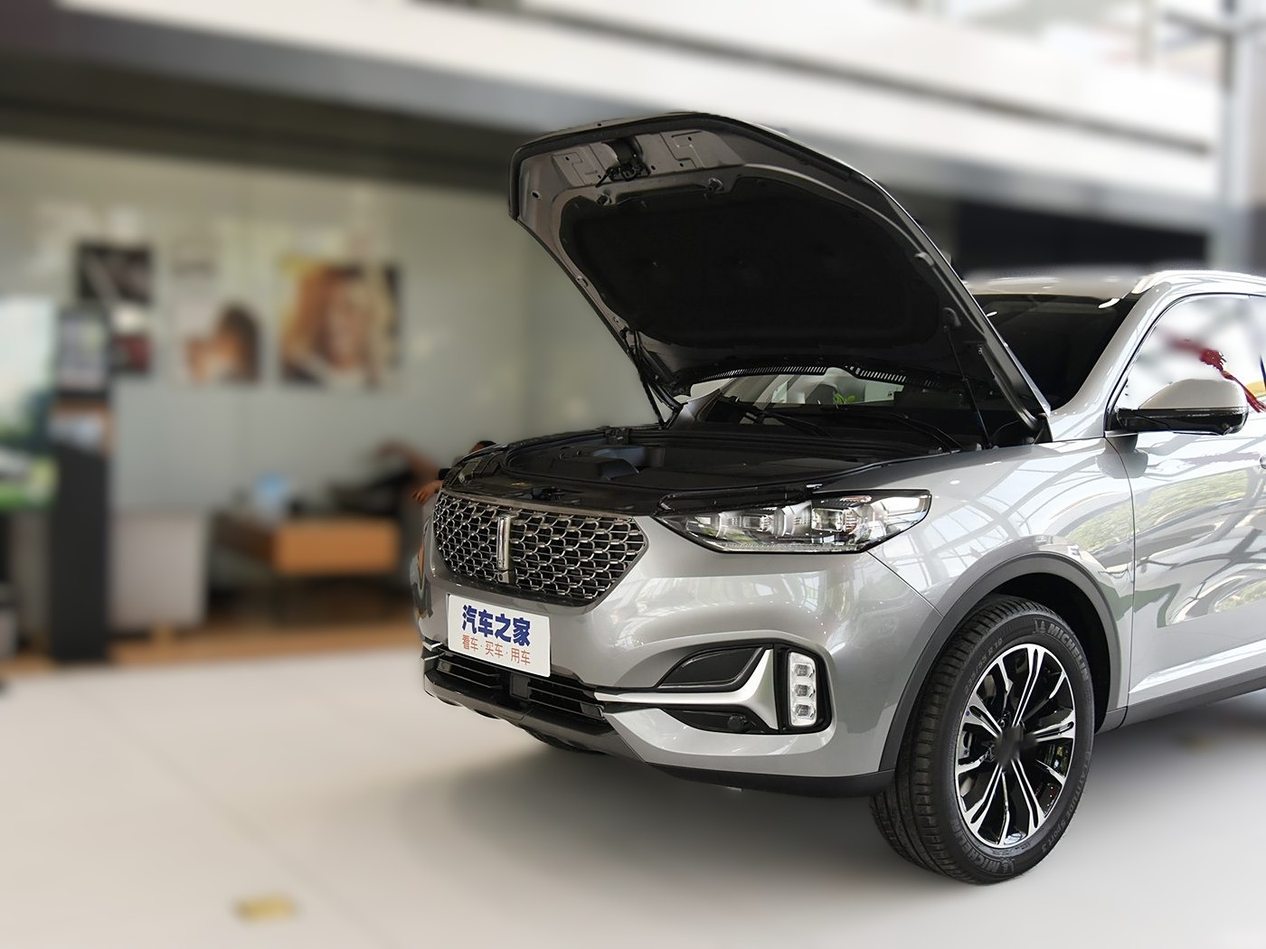WEY: (497, 518, 508, 568)
